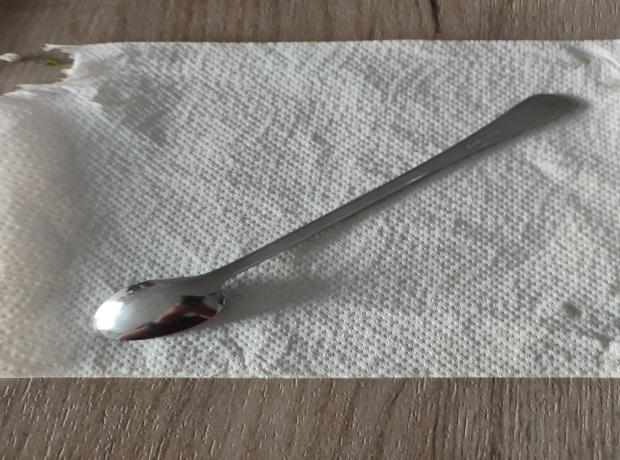metal: (90, 93, 585, 342)
